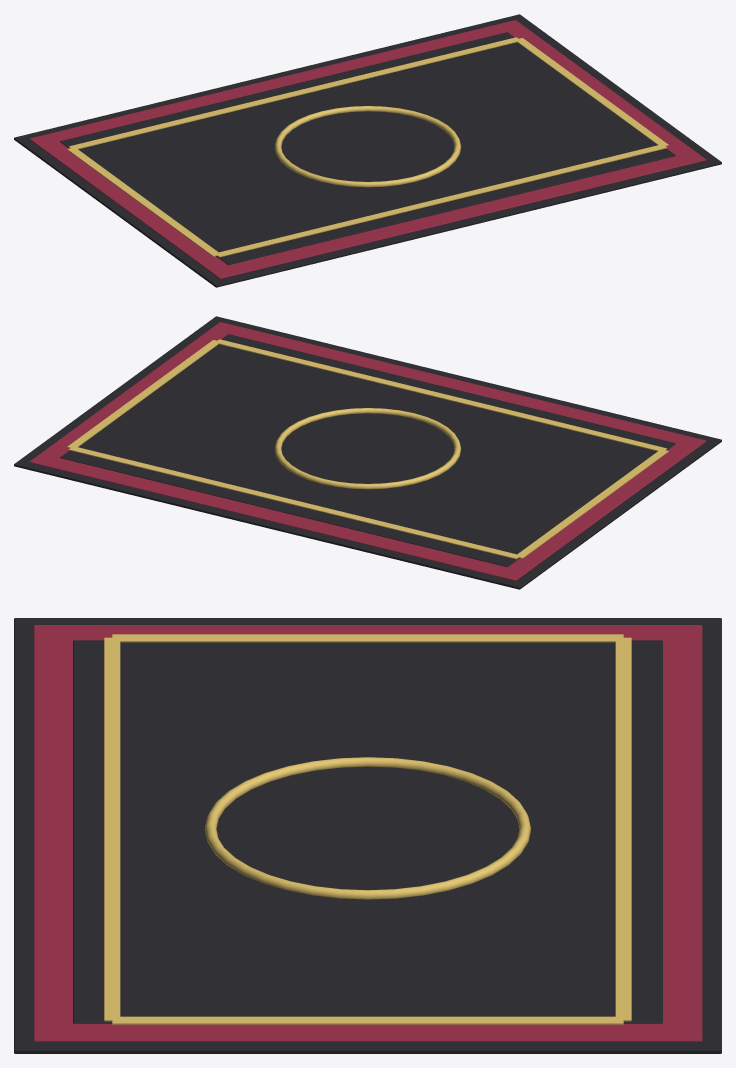
The model's file is rug_gold_border.glb.
3 renders of one model, top to bottom at view 1: azimuth 30°, elevation 25°; view 2: azimuth 150°, elevation 25°; view 3: azimuth 270°, elevation 25°, orthographic. The views are drawn at different scales.
Visible parts, largest first — view 1: GD_rug_gold_border__m0, GD_rug_gold_border__m1, GD_rug_gold_border__m2; view 2: GD_rug_gold_border__m0, GD_rug_gold_border__m1, GD_rug_gold_border__m2; view 3: GD_rug_gold_border__m0, GD_rug_gold_border__m1, GD_rug_gold_border__m2.
Part boxes in pixels (x1=…): GD_rug_gold_border__m0: x1=14, y1=14, x2=721, y2=287; GD_rug_gold_border__m1: x1=29, y1=20, x2=706, y2=278; GD_rug_gold_border__m2: x1=67, y1=37, x2=668, y2=257; GD_rug_gold_border__m0: x1=14, y1=316, x2=721, y2=589; GD_rug_gold_border__m1: x1=29, y1=322, x2=706, y2=580; GD_rug_gold_border__m2: x1=67, y1=339, x2=668, y2=559; GD_rug_gold_border__m0: x1=14, y1=618, x2=721, y2=1053; GD_rug_gold_border__m1: x1=33, y1=625, x2=702, y2=1041; GD_rug_gold_border__m2: x1=104, y1=634, x2=631, y2=1024.
Size of the model in its own units: 2.6 by 0.04 by 1.8.
